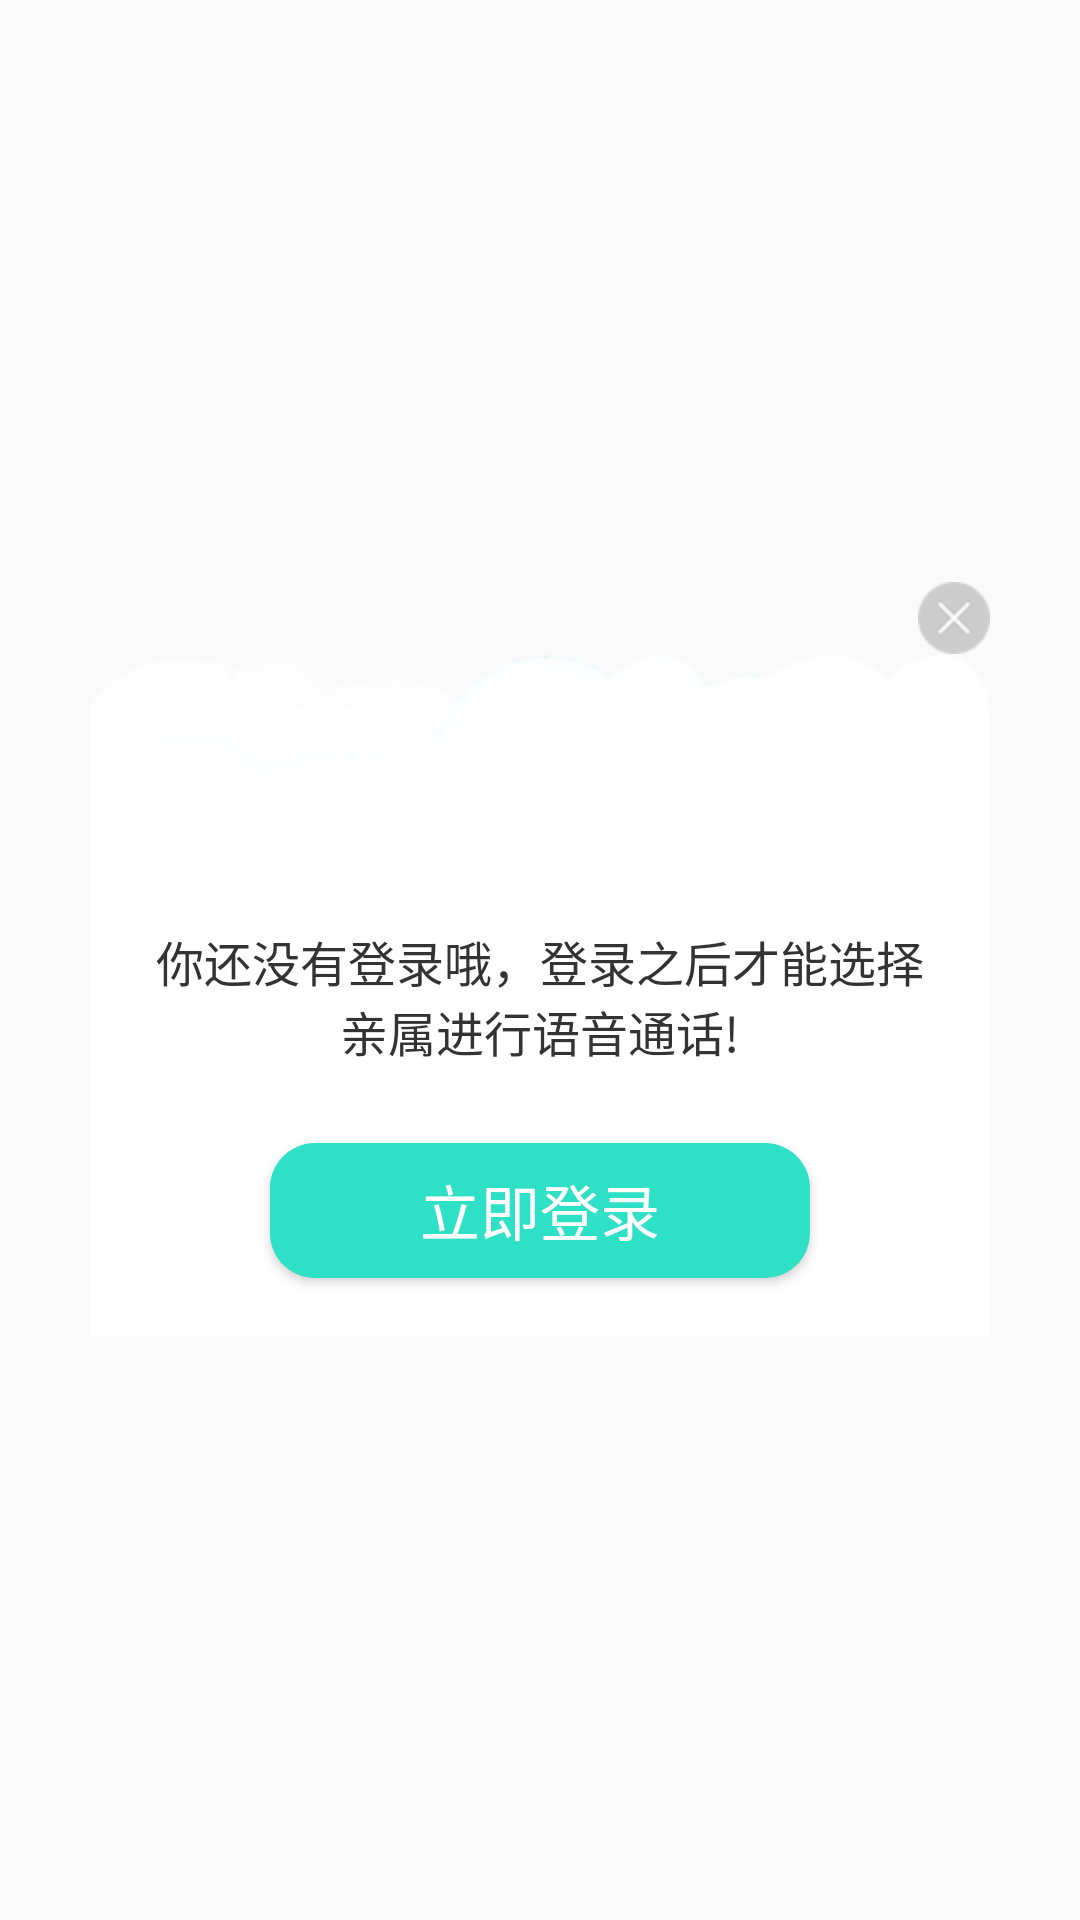

Icons on this 1080*1920 Android screen, each with its box as detection(x1, y1, x2, y2):
close: detection(918, 582, 990, 654)
